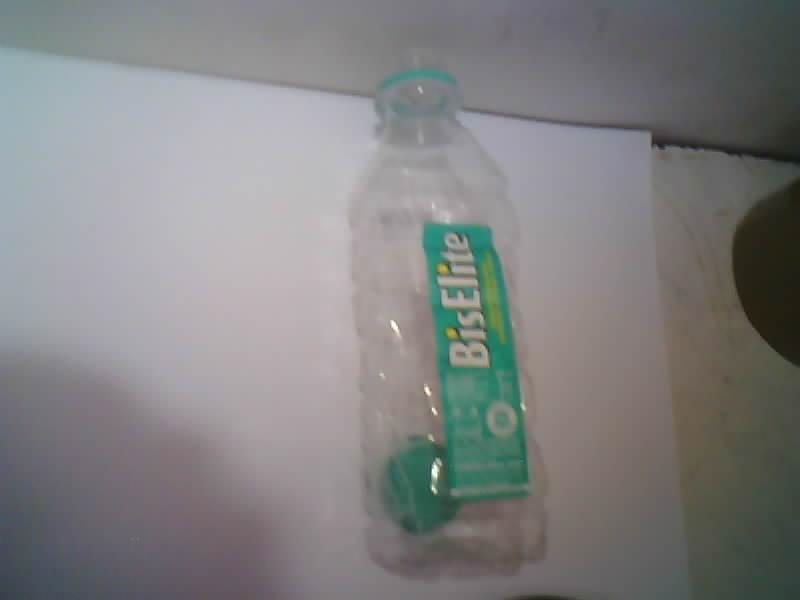non-biodegradable: (350, 62, 544, 577)
